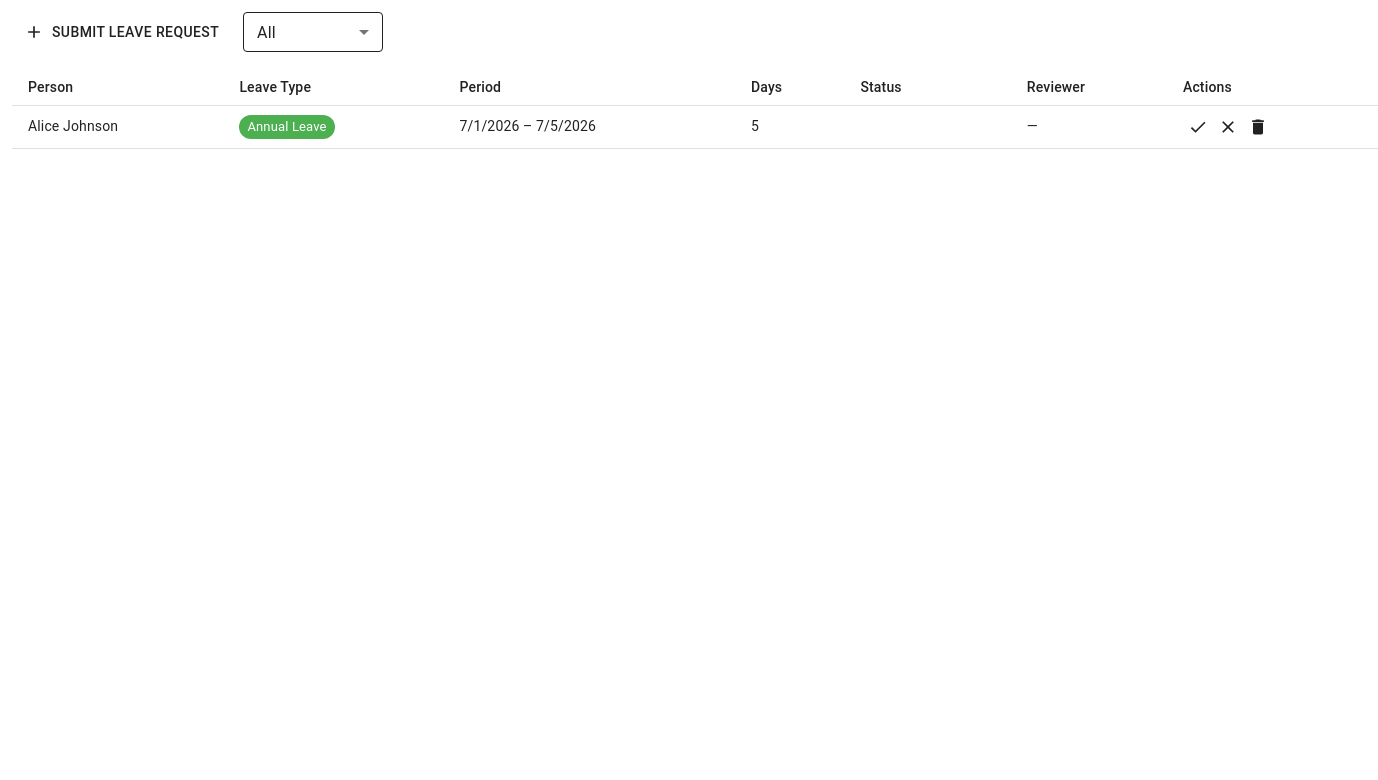
Scenario: LeaveRequestsTab › opens create form on button click
Click the button "Submit Leave Request".
click(124, 32)  # box [12,12,235,52]
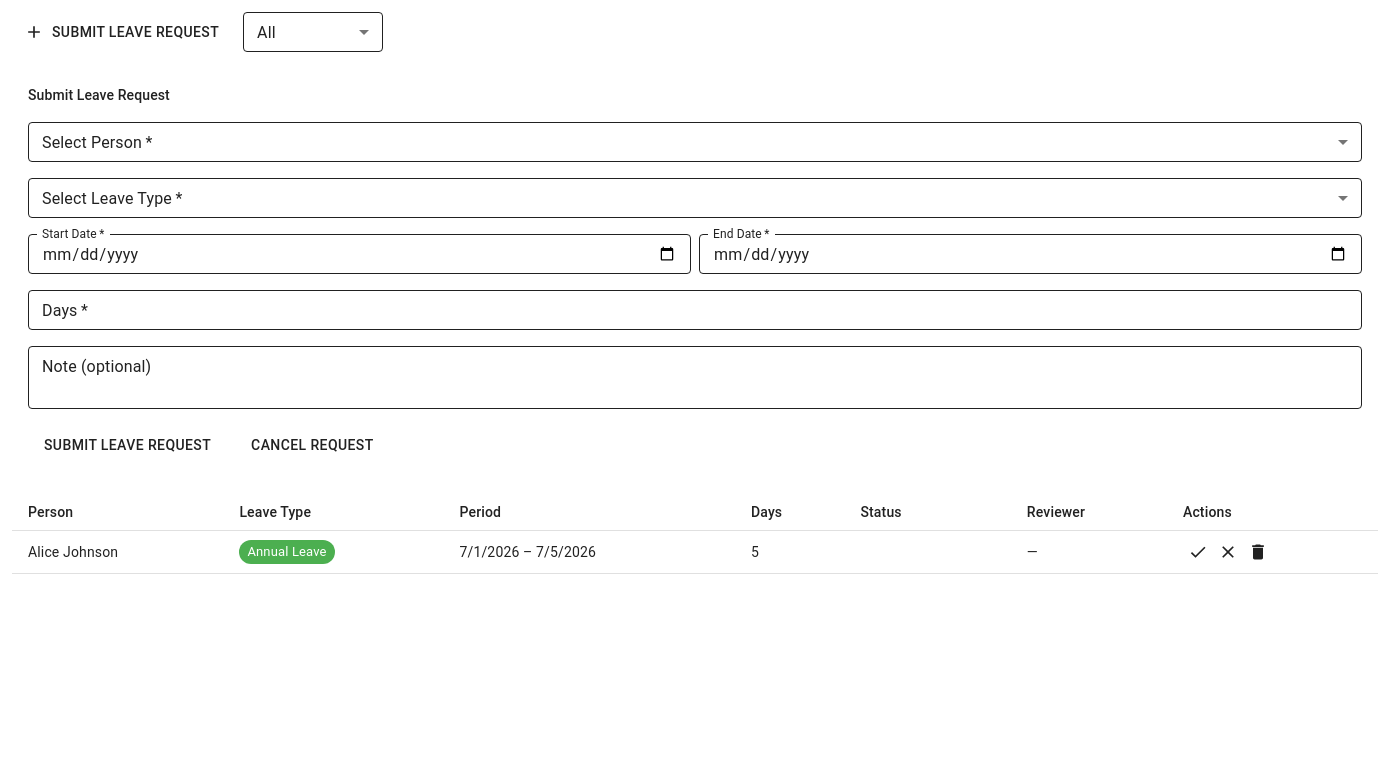
Check: the text "Start Date" is shown, box [42,227,97,241]
Check: the text "End Date" is shown, box [713,227,762,241]
